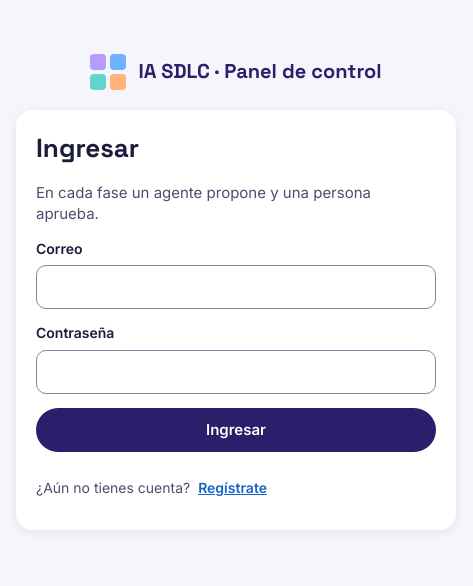
Test case: flujo de la fase 1 con el cliente en memoria › muestra el error del back cuando las credenciales no sirven
Step 1. Type "ana@demo.local" into the field labelled "Correo" → (236, 287), box 36,265 -> 436,309
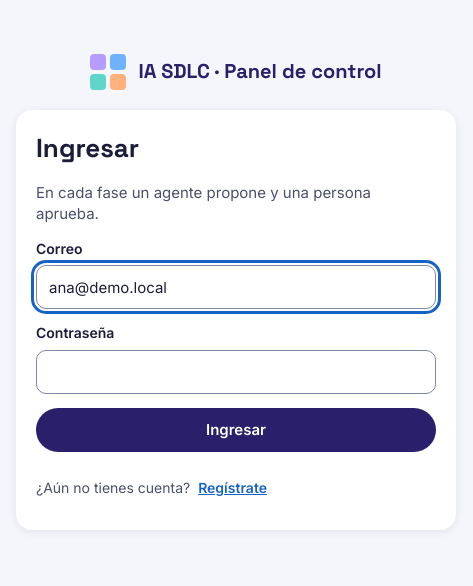
Step 2. Type "otra-clave" into the password field labelled "Contraseña" → (236, 372), box 36,350 -> 436,394
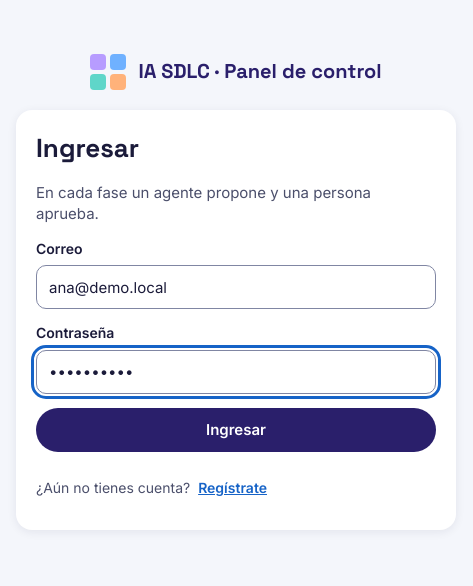
Step 3. Click the button "Ingresar" → click(236, 430), box 36,408 -> 436,452
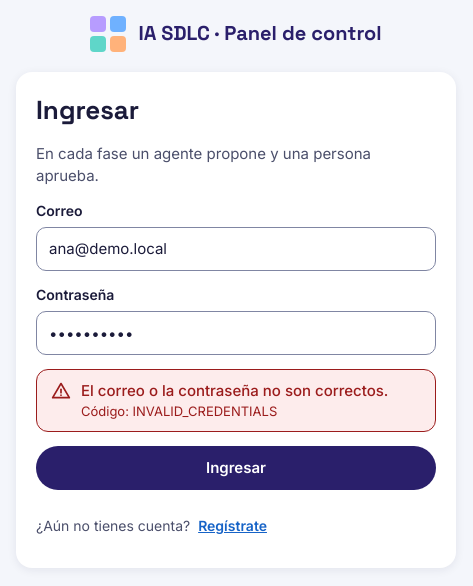
Expected: the message shows "INVALID_CREDENTIALS", 133,403 -> 277,419
